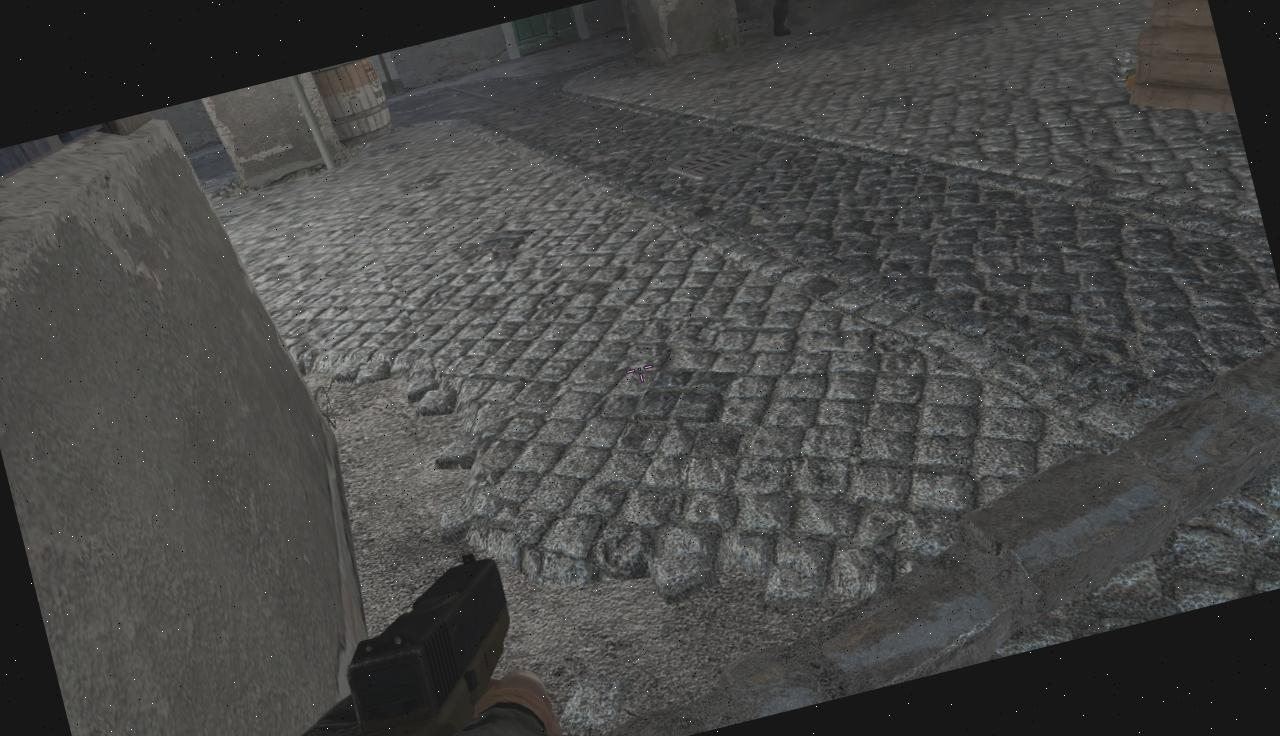pistol: (211, 535, 566, 736)
